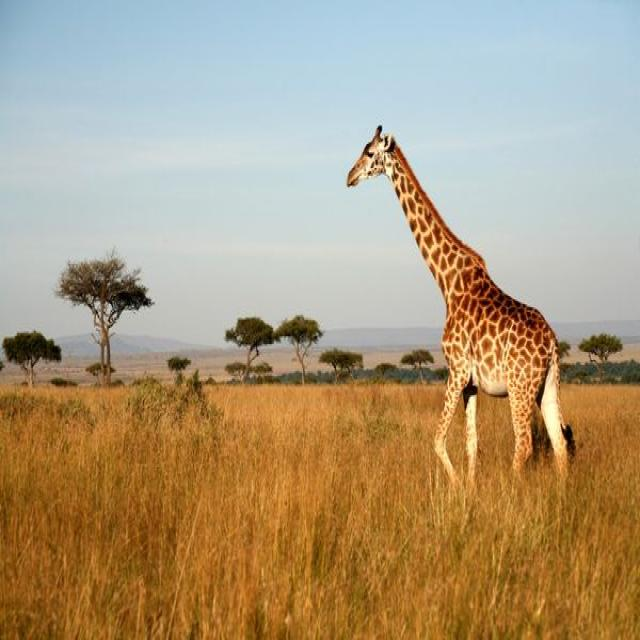Giraffe: (344, 119, 578, 488)
